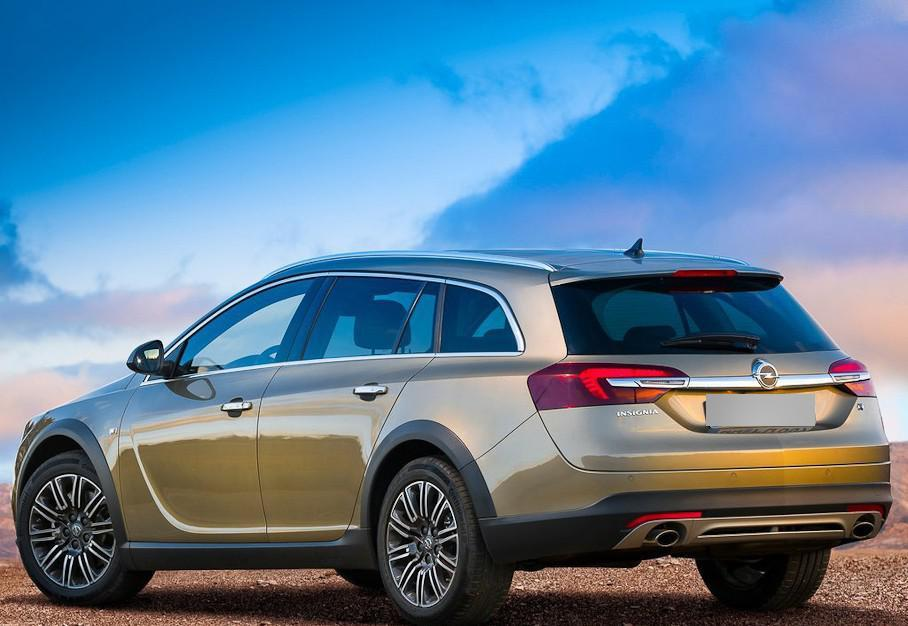Wagon: (10, 249, 893, 626)
